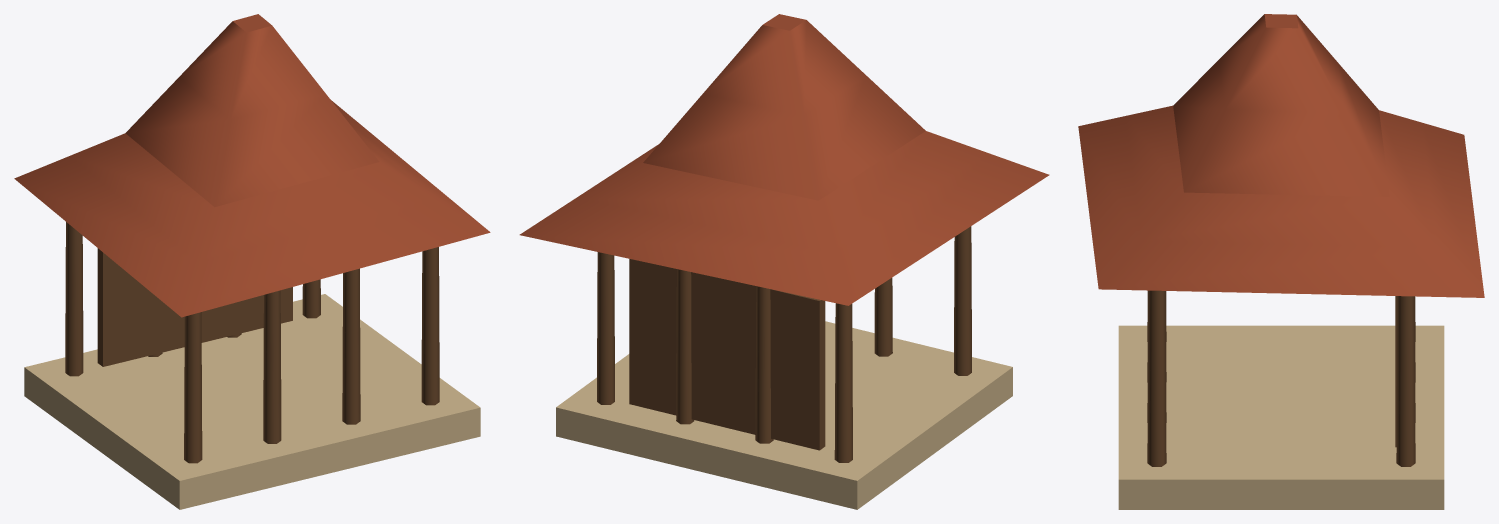
Rendered from joglo.glb.
3 renders of one model, left to right at view 1: azimuth 30°, elevation 25°; view 2: azimuth 150°, elevation 25°; view 3: azimuth 270°, elevation 25°, orthographic. The views are drawn at different scales.
Visible parts, largest first — view 1: joglo_mesh; view 2: joglo_mesh; view 3: joglo_mesh.
Part boxes in pixels (x1=…): joglo_mesh: x1=14, y1=14, x2=490, y2=509; joglo_mesh: x1=519, y1=14, x2=1049, y2=509; joglo_mesh: x1=1078, y1=14, x2=1484, y2=509.
Size of the model in its own units: 4.24 by 4.74 by 4.24.
